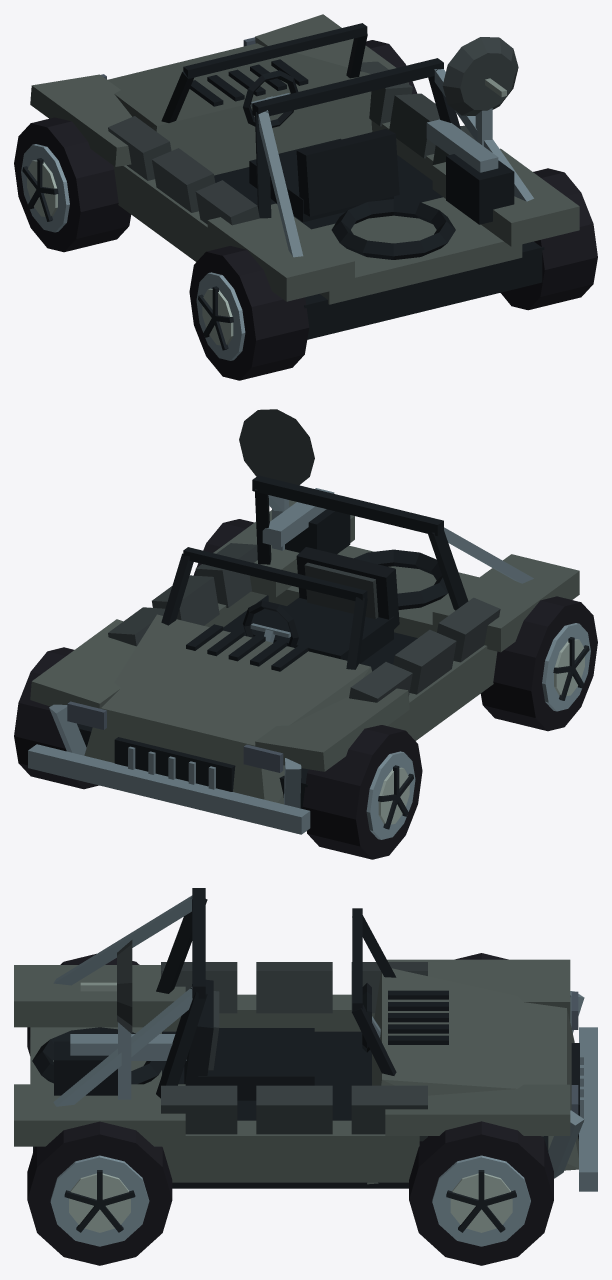
The model's file is kart.glb.
3 renders of one model, top to bottom at view 1: azimuth 30°, elevation 25°; view 2: azimuth 150°, elevation 25°; view 3: azimuth 270°, elevation 25°, orthographic. The views are drawn at different scales.
Visible parts, largest first — view 1: identity-warthog-warthog-sloped-armored-bonnet, identity-warthog-warthog-open-cage-and-cargo-bed, wheel-rear-left, wheel-front-left, identity-warthog-motif-armor, identity-warthog-driver-cockpit, wheel-rear-right, identity-warthog-motif-radar, wheel-front-right; view 2: identity-warthog-warthog-sloped-armored-bonnet, identity-warthog-warthog-open-cage-and-cargo-bed, wheel-front-left, identity-warthog-motif-armor, wheel-rear-left, identity-warthog-driver-cockpit, identity-warthog-motif-radar, wheel-front-right, wheel-rear-right; view 3: identity-warthog-warthog-sloped-armored-bonnet, identity-warthog-warthog-open-cage-and-cargo-bed, wheel-front-right, identity-warthog-motif-armor, wheel-rear-right, identity-warthog-driver-cockpit, identity-warthog-motif-radar.
Part boxes in pixels (x1,y1,x2,y2): identity-warthog-warthog-sloped-armored-bonnet: (30,14,579,339); identity-warthog-warthog-open-cage-and-cargo-bed: (161,23,533,304); wheel-rear-left: (189,246,309,380); wheel-front-left: (14,117,131,252); identity-warthog-motif-armor: (108,61,474,225); identity-warthog-driver-cockpit: (243,70,399,222); wheel-rear-right: (500,168,597,310); identity-warthog-motif-radar: (442,37,518,146); wheel-front-right: (365,40,417,94); identity-warthog-warthog-sloped-armored-bonnet: (28,500,579,834); identity-warthog-warthog-open-cage-and-cargo-bed: (161,475,533,669); wheel-front-left: (302,725,422,859); identity-warthog-motif-armor: (108,543,500,702); wheel-rear-left: (480,596,597,731); identity-warthog-driver-cockpit: (243,547,399,663); identity-warthog-motif-radar: (239,409,314,550); wheel-front-right: (14,647,98,789); wheel-rear-right: (193,519,254,575); identity-warthog-warthog-sloped-armored-bonnet: (14,959,597,1191); identity-warthog-warthog-open-cage-and-cargo-bed: (30,888,396,1106); wheel-front-right: (409,1121,553,1265); identity-warthog-motif-armor: (161,962,427,1141); wheel-rear-right: (27,1121,172,1265); identity-warthog-driver-cockpit: (184,979,380,1100); identity-warthog-motif-radar: (80,940,132,1099).
Bounding box in the file's own units: 2.37 × 1.65 × 3.06.
